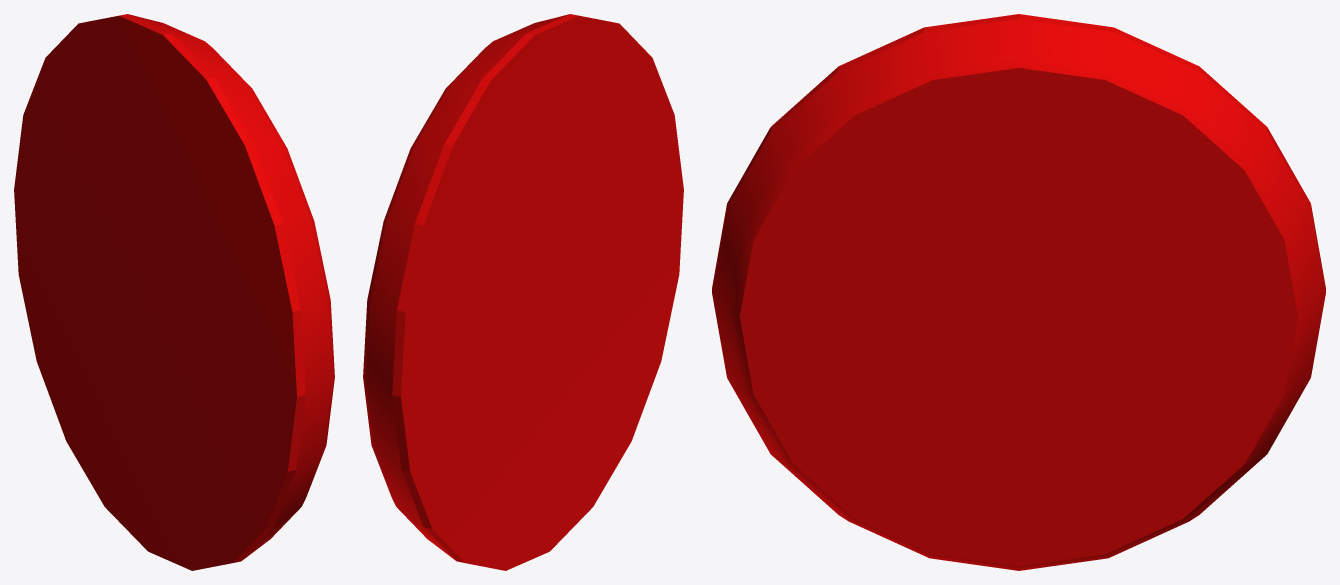
File: Auto_Bouton_Plunger_Base.fbx
3 renders of one model, left to right at view 1: azimuth 30°, elevation 25°; view 2: azimuth 150°, elevation 25°; view 3: azimuth 270°, elevation 25°, orthographic. The views are drawn at different scales.
Parts seen in each view (by area): view 1: Auto_Bouton_Plunger_Base; view 2: Auto_Bouton_Plunger_Base; view 3: Auto_Bouton_Plunger_Base.
Part boxes in pixels (left/top/right/bottom): Auto_Bouton_Plunger_Base: left=14, top=14, right=334, bottom=570; Auto_Bouton_Plunger_Base: left=363, top=14, right=683, bottom=570; Auto_Bouton_Plunger_Base: left=712, top=14, right=1325, bottom=570.
Size of the model in its own units: 0.8663 by 6.54 by 6.54.
